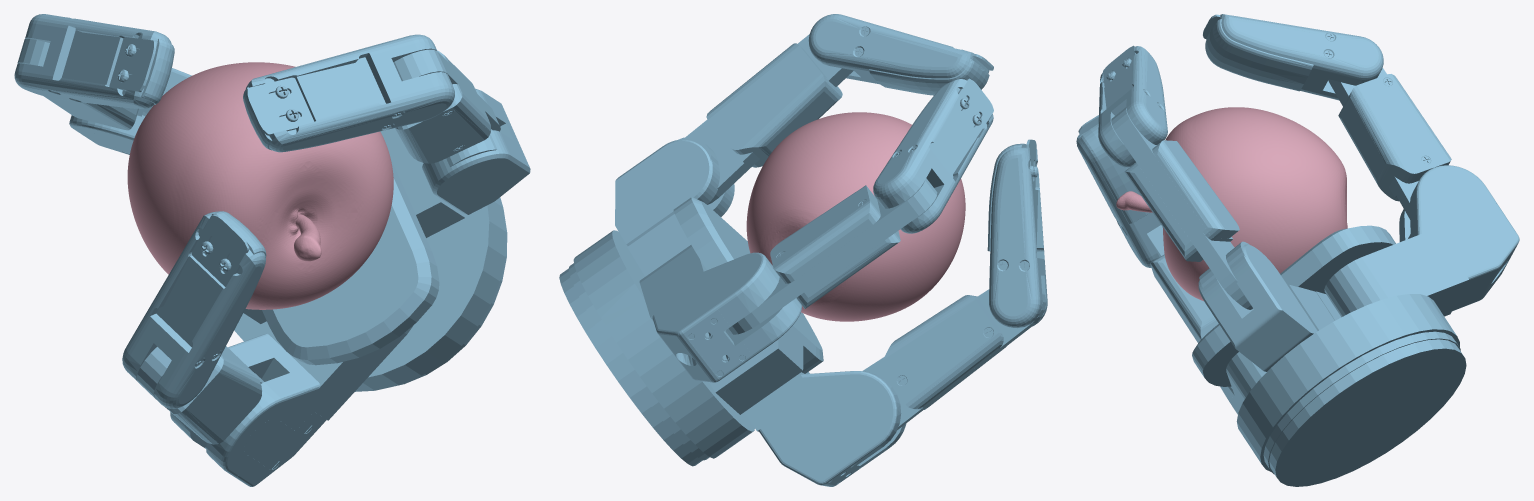
3 views of the same model, side by side, from view 1: azimuth 30°, elevation 25°; view 2: azimuth 150°, elevation 25°; view 3: azimuth 270°, elevation 25° (orthographic). The views are drawn at different scales.
Visible parts, largest first — view 1: world, apple.stl; view 2: world, apple.stl; view 3: world, apple.stl.
Part boxes in pixels (box(x1,y1,x2,y2)): world: box(14, 14, 530, 486); apple.stl: box(127, 62, 393, 309); world: box(559, 14, 1047, 486); apple.stl: box(746, 112, 965, 321); world: box(1076, 14, 1519, 486); apple.stl: box(1116, 107, 1347, 301).
Size of the model in its own units: 0.1613 by 0.1666 by 0.1685.
